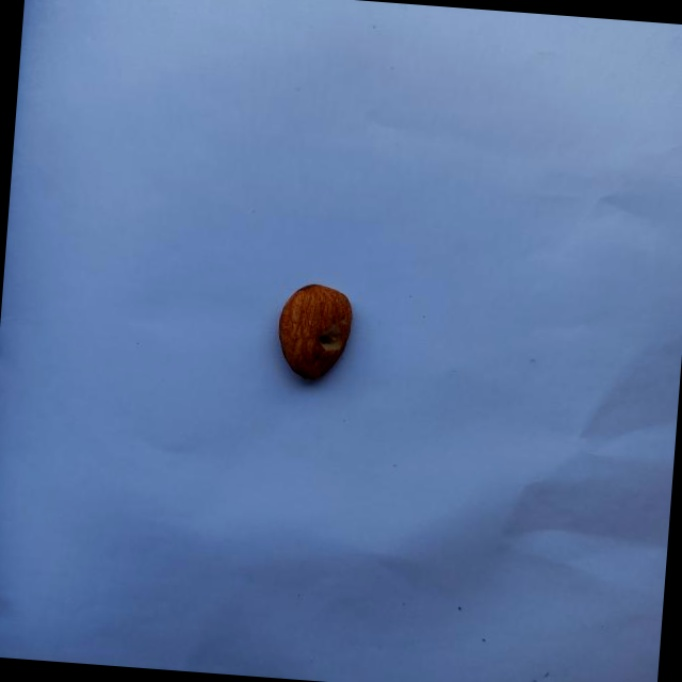grade3: (273, 277, 360, 388)
